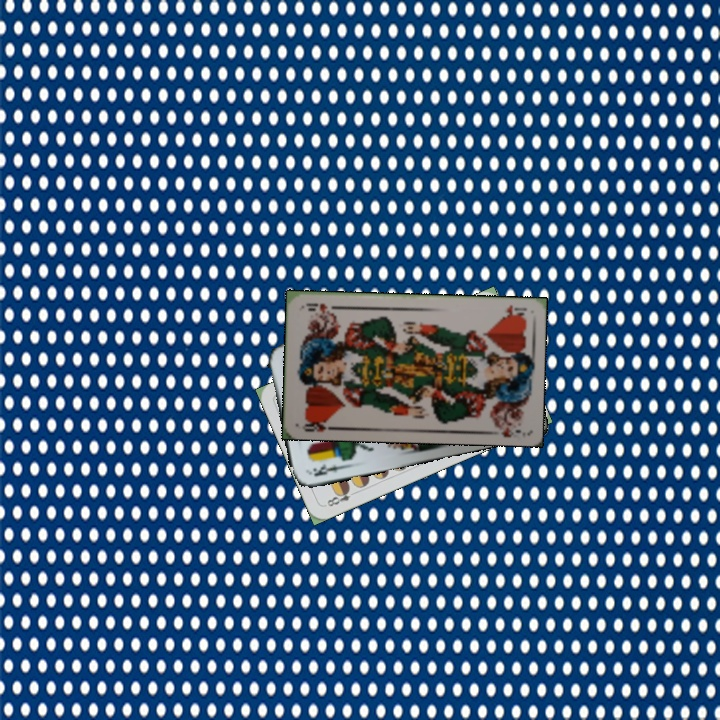E8: (323, 484, 360, 509)
EK: (306, 460, 347, 479)
HO: (298, 415, 338, 435), (498, 301, 529, 320)
